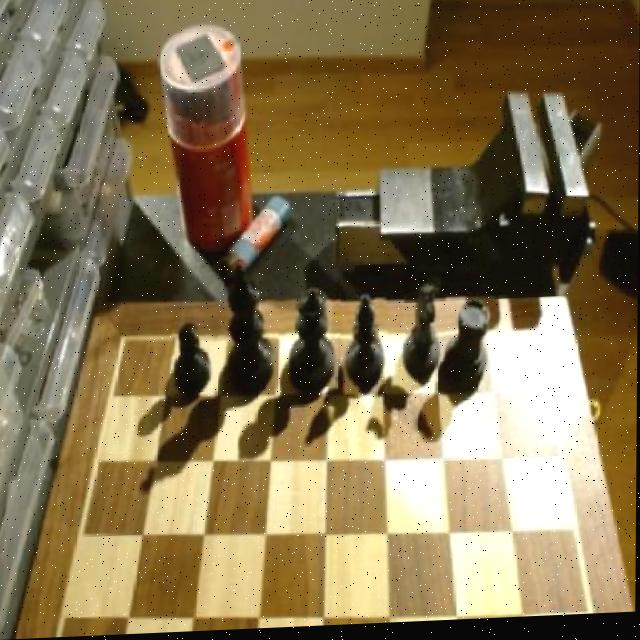bishop: (347, 292, 390, 394)
black-bishop: (225, 267, 280, 394)
black-king: (407, 286, 446, 384)
black-knight: (171, 317, 219, 398)
black-pawn: (285, 286, 342, 401)
black-queen: (446, 299, 495, 397)
